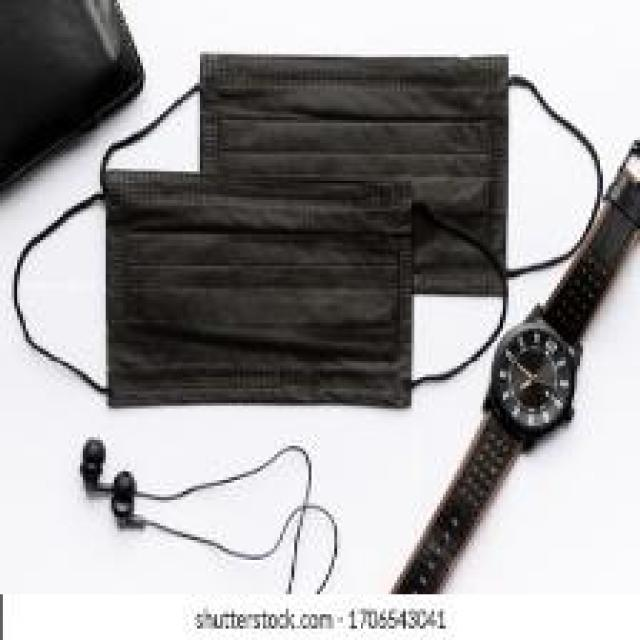Mask: (64, 66, 540, 432)
